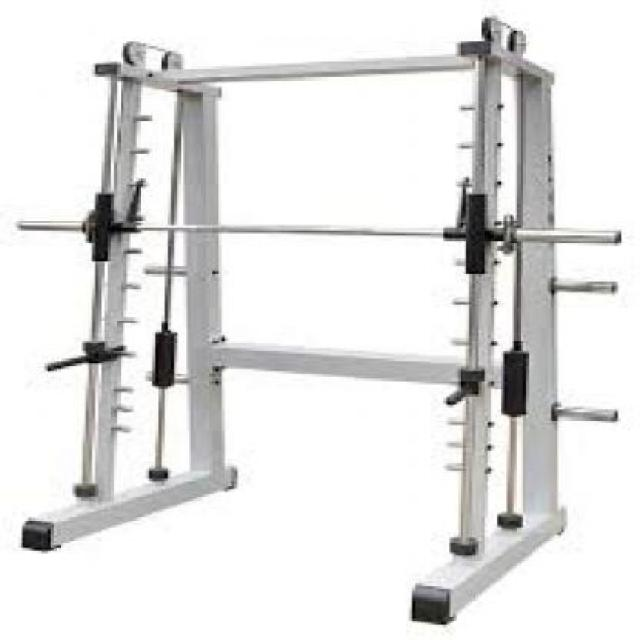smith machine: (17, 15, 620, 628)
